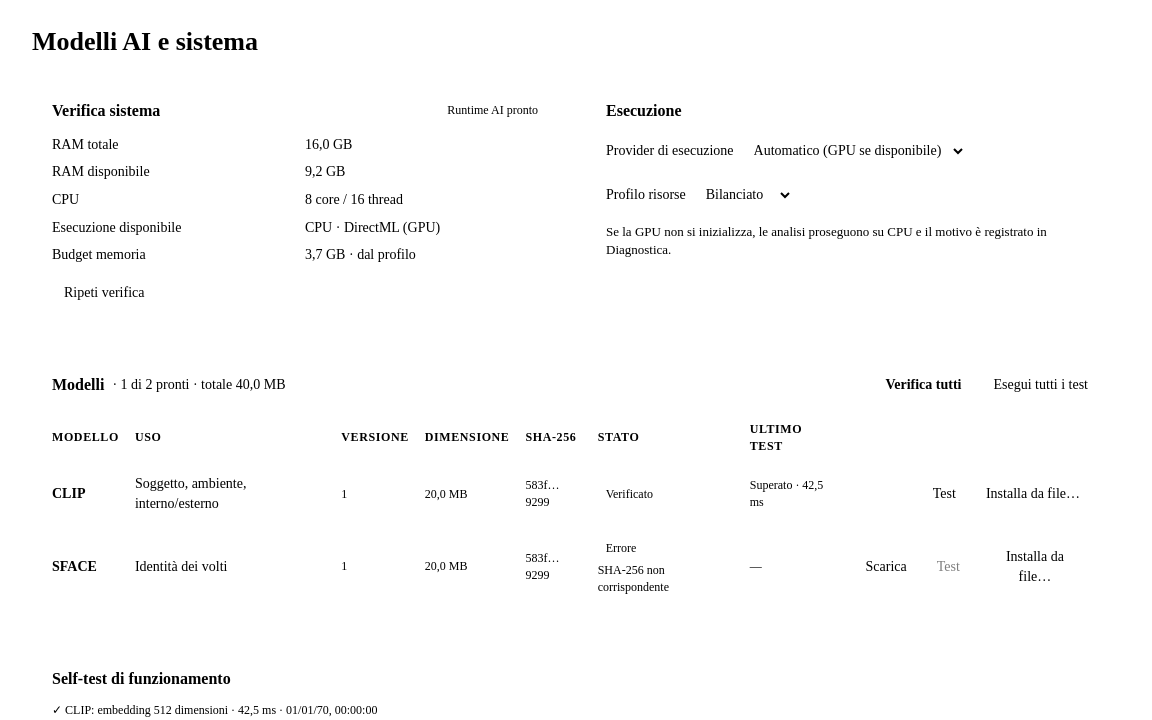
Modelli AI e sistema › mostra sistema, stati, self-test e aggiorna il download dagli eventi
The width and height of the screenshot is (1152, 720).
Check: the row with test id "model-clip" shows "Verificato", box [606, 486, 653, 500]
Check: the row with test id "model-clip" shows "Superato · 42,5 ms", box [750, 478, 823, 509]
Click the button "Scarica".
click(886, 567)  # box [854, 547, 919, 586]
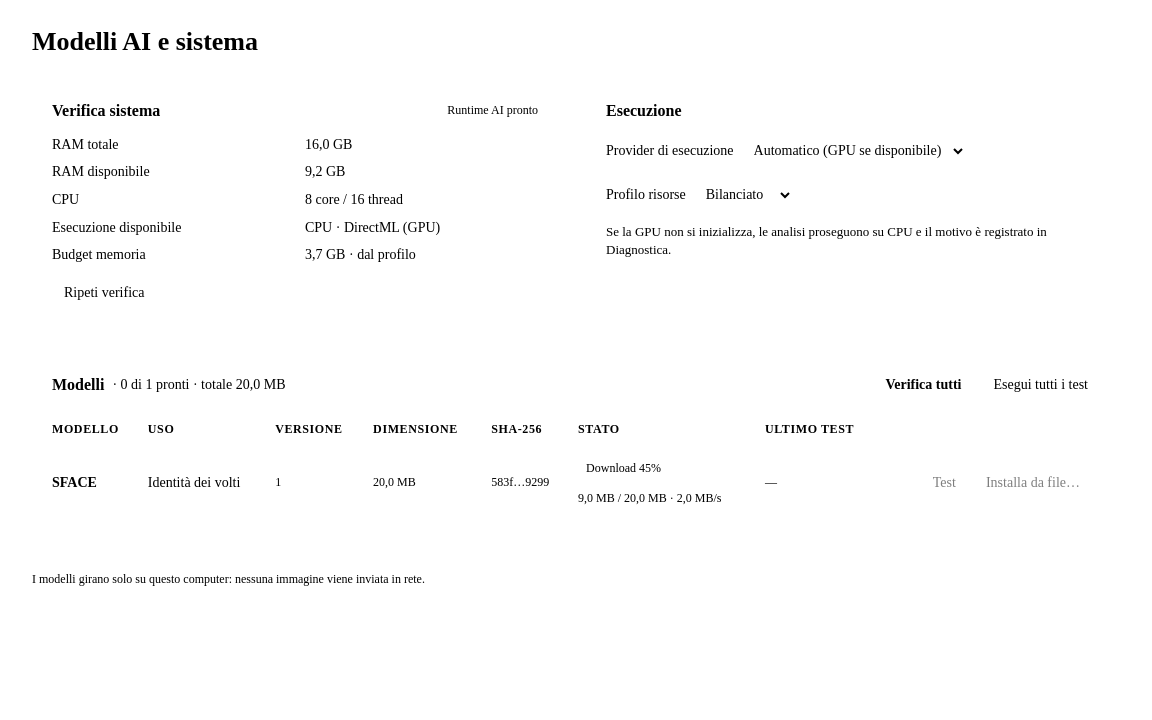
Check: the row with test id "model-sface" shows "Download 45%", box [586, 460, 661, 474]
Check: the row with test id "model-sface" shows "2,0 MB/s", box [52, 446, 1100, 519]
